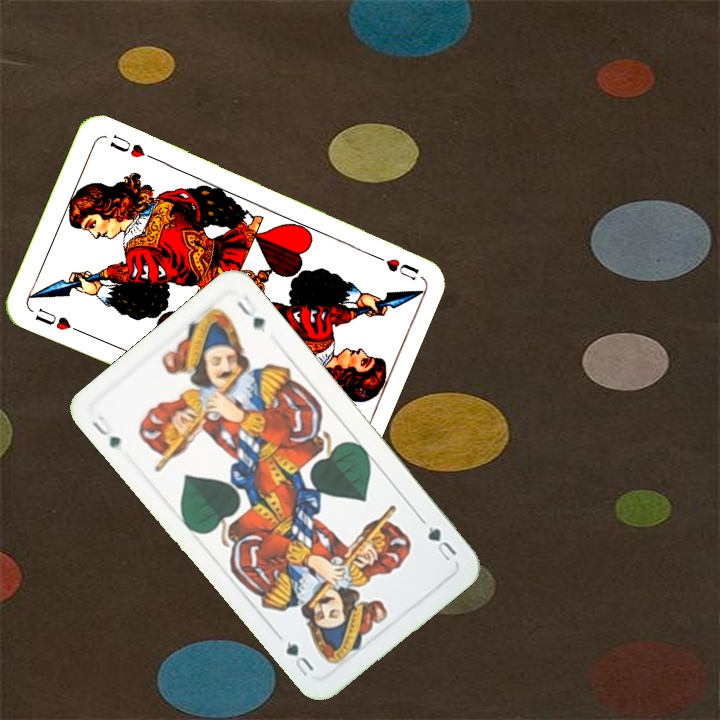GU: (87, 411, 125, 454), (423, 522, 460, 564)
HU: (366, 249, 422, 283), (30, 304, 84, 336)
